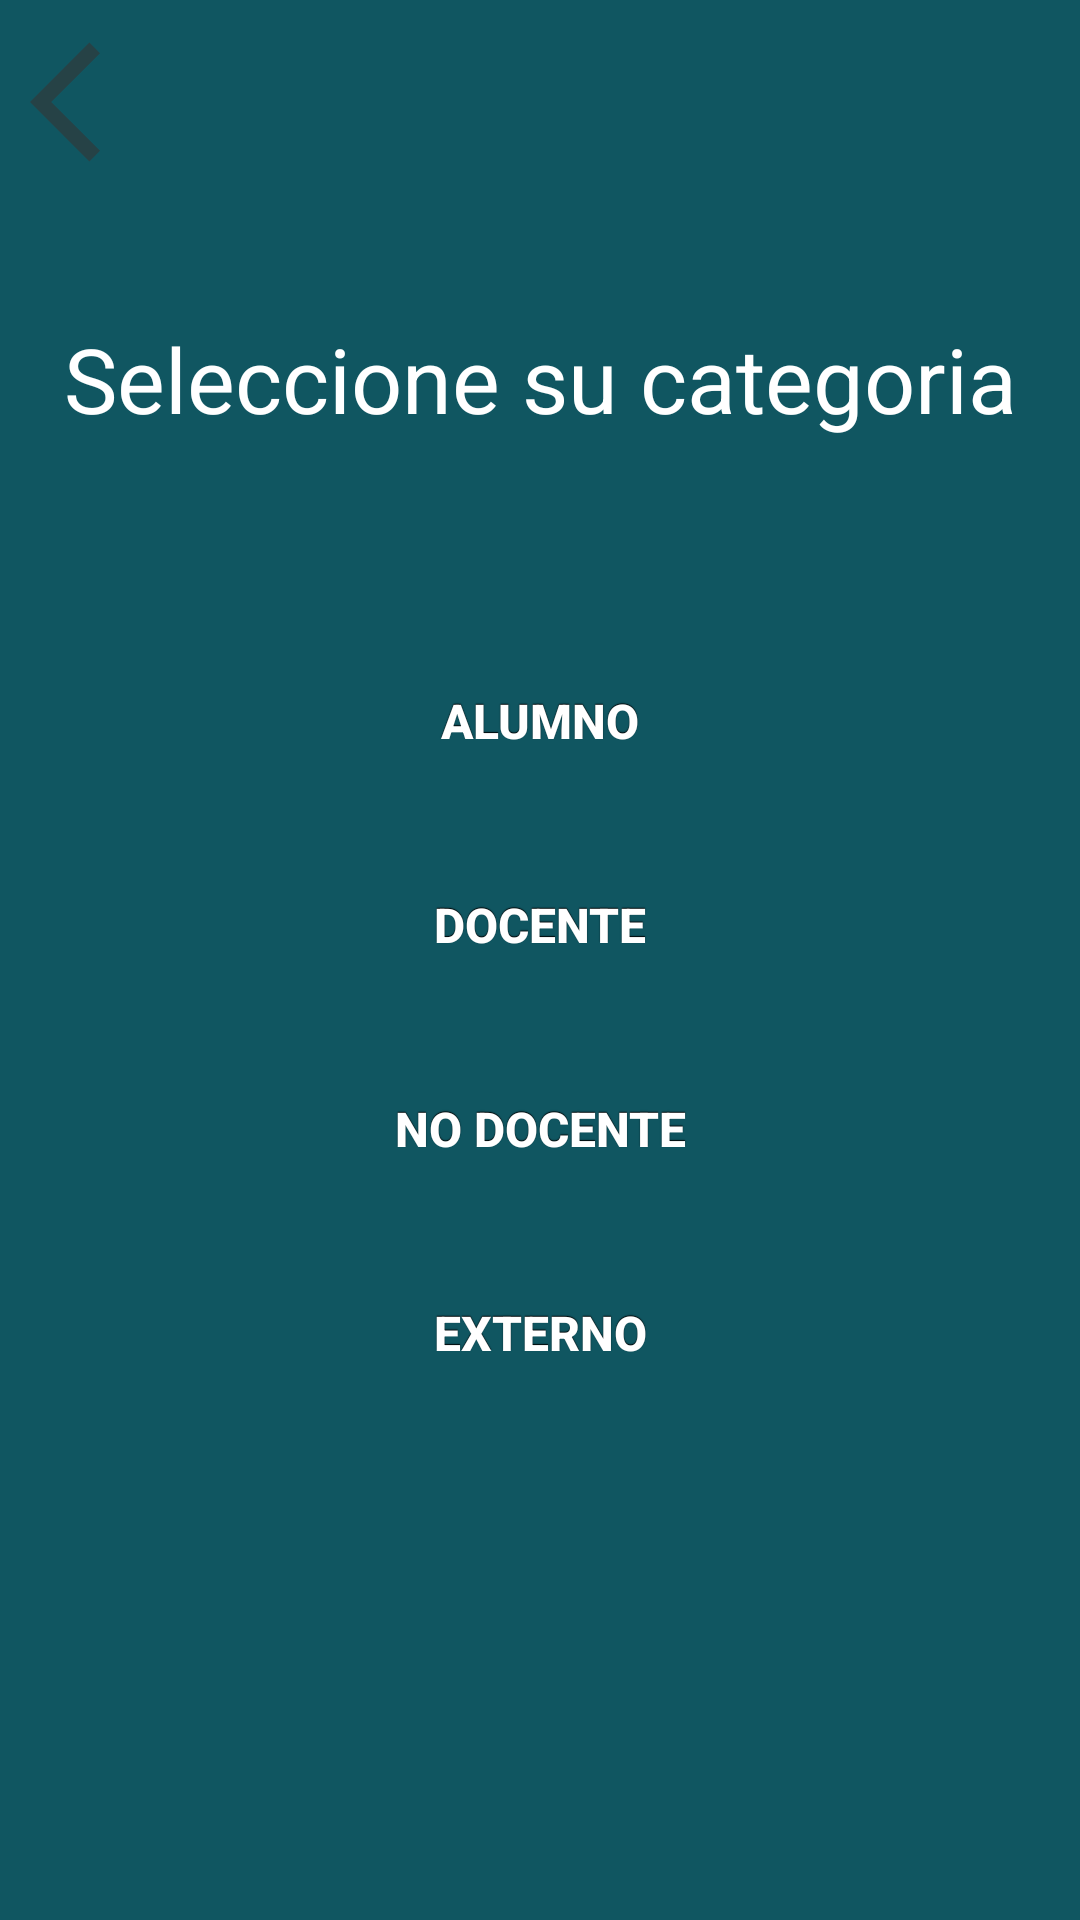

Point at icon controls on the screen. Image size 1080x1920, points as (x=x, y=y).
arrow back: (x=65, y=102)
